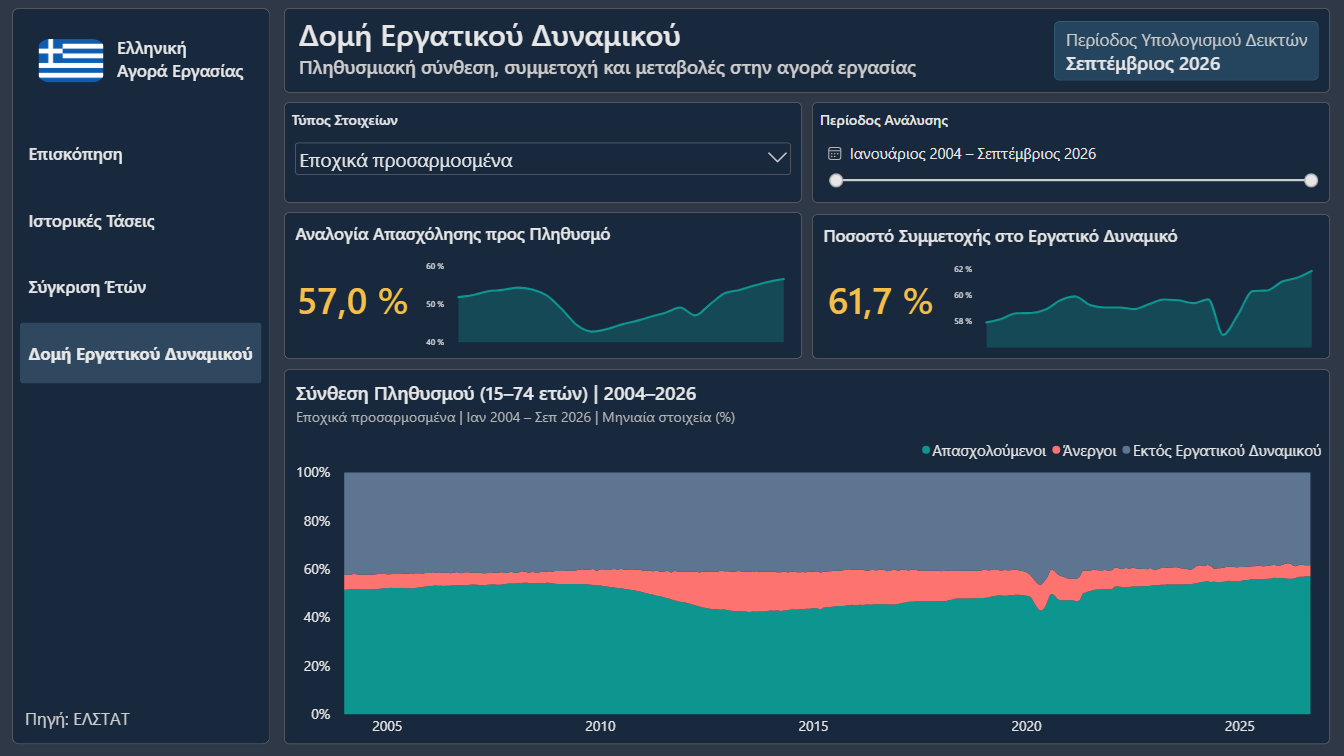

This screenshot's page, from the dashboard's own definition file:
{"tool":"powerbi","page":{"name":"Δομή Εργατικού Δυναμικού","canvas":[1920,1080],"ordinal":3},"visuals":[{"type":"shape","box":[16.7,11.7,368.3,1051.7],"z":0},{"type":"textbox","box":[35.7,1010,325.7,40],"z":1000},{"type":"image","box":[50.7,55.7,100,61.7],"z":2000},{"type":"textbox","box":[166.4,50.7,212.9,82.9],"z":3000},{"type":"pageNavigator","box":[28.6,175.7,345,372],"z":4000},{"type":"textbox","box":[405.7,11.4,1494.3,121],"z":5000},{"type":"hundredPercentStackedAreaChart","fields":{"Category":["Πίνακας 1Α.Ημερομηνία.Variation.Date Hierarchy.Year","Πίνακας 1Α.Ημερομηνία.Variation.Date Hierarchy.Month"],"Y":["Avg(Πίνακας 1Α.Απασχολούμενοι)","Avg(Πίνακας 1Α.Άνεργοι)","Avg(Πίνακας 1Α.Εκτός εργατικού δυναμικού)"]},"box":[405.7,527.1,1494.3,535.7],"z":6000},{"type":"slicer","title":"Τύπος Στοιχείων","fields":{"Values":["Πίνακας 1Α.Τύπος Στοιχείων"]},"box":[405.7,146.2,740,144.3],"z":7000},{"type":"slicer","title":"Περίοδος Ανάλυσης","fields":{"Values":["Πίνακας 1Α.Ημερομηνία"]},"box":[1160,146.2,740,144.3],"z":8000},{"type":"shape","box":[1160,305.7,740,207.1],"z":9000},{"type":"textbox","box":[1160,305.7,740,55.7],"z":10000},{"type":"cardVisual","fields":{"Data":["Άξονας Έτους Σύγκρισης.Δομή Συμμετοχή Κάρτα"]},"box":[1160,390,197,72.9],"z":11000},{"type":"lineChart","fields":{"Category":["Πίνακας 1Α.Ημερομηνία.Variation.Date Hierarchy.Year"],"Y":["Άξονας Έτους Σύγκρισης.Δομή Ποσοστό Συμμετοχής"]},"box":[1357.1,361.4,542.9,151.4],"z":12000},{"type":"shape","box":[405.7,302.9,740,210],"z":13000},{"type":"textbox","box":[405.7,302.9,740,54.3],"z":14000},{"type":"cardVisual","fields":{"Data":["Άξονας Έτους Σύγκρισης.Δομή Απασχόληση Κάρτα"]},"box":[405.7,390,197.1,72],"z":15000},{"type":"lineChart","fields":{"Category":["Πίνακας 1Α.Ημερομηνία.Variation.Date Hierarchy.Year"],"Y":["Άξονας Έτους Σύγκρισης.Δομή Αναλογία Απασχόλησης"]},"box":[602.9,357.1,542.9,155.7],"z":16000},{"type":"cardVisual","fields":{"Data":["Άξονας Έτους Σύγκρισης.Δομή Περίοδος KPI"]},"box":[1505.7,30,378.6,85.7],"z":16001}]}

Visuals, with their boxes on the page's 1920x1080 design canvas (x1, y1, x2, y2). These are canvas units, not pixel positions in the 1344x756 screenshot, which may show the page scaled, cropped or inside an application window:
shape: region(17, 12, 385, 1063)
textbox: region(36, 1010, 361, 1050)
image: region(51, 56, 151, 117)
textbox: region(166, 51, 379, 134)
pageNavigator: region(29, 176, 374, 548)
textbox: region(406, 11, 1900, 132)
hundredPercentStackedAreaChart - Πίνακας 1Α.Ημερομηνία.Variation.Date Hierarchy.Year x Πίνακας 1Α.Ημερομηνία.Variation.Date Hierarchy.Month: region(406, 527, 1900, 1063)
"Τύπος Στοιχείων" slicer: region(406, 146, 1146, 290)
"Περίοδος Ανάλυσης" slicer: region(1160, 146, 1900, 290)
shape: region(1160, 306, 1900, 513)
textbox: region(1160, 306, 1900, 361)
cardVisual - Άξονας Έτους Σύγκρισης.Δομή Συμμετοχή Κάρτα: region(1160, 390, 1357, 463)
lineChart - Πίνακας 1Α.Ημερομηνία.Variation.Date Hierarchy.Year x Άξονας Έτους Σύγκρισης.Δομή Ποσοστό Συμμετοχής: region(1357, 361, 1900, 513)
shape: region(406, 303, 1146, 513)
textbox: region(406, 303, 1146, 357)
cardVisual - Άξονας Έτους Σύγκρισης.Δομή Απασχόληση Κάρτα: region(406, 390, 603, 462)
lineChart - Πίνακας 1Α.Ημερομηνία.Variation.Date Hierarchy.Year x Άξονας Έτους Σύγκρισης.Δομή Αναλογία Απασχόλησης: region(603, 357, 1146, 513)
cardVisual - Άξονας Έτους Σύγκρισης.Δομή Περίοδος KPI: region(1506, 30, 1884, 116)
